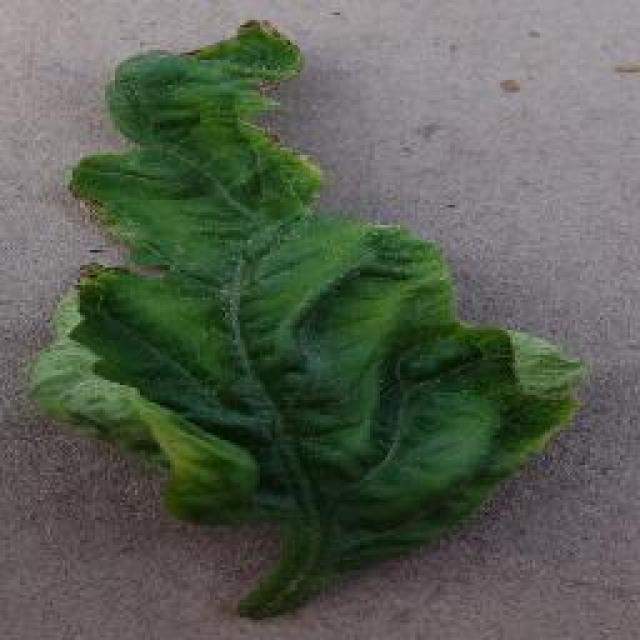Tomato yellow virus leaf: (28, 19, 582, 594)
